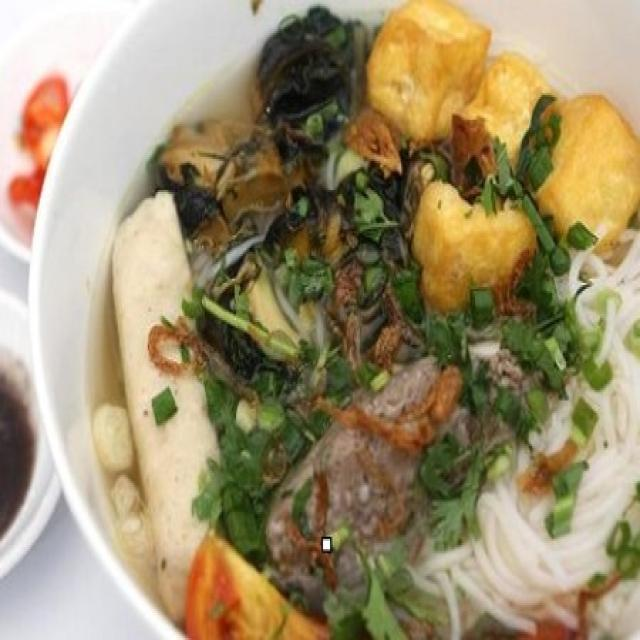面条主食: (31, 4, 623, 628)
